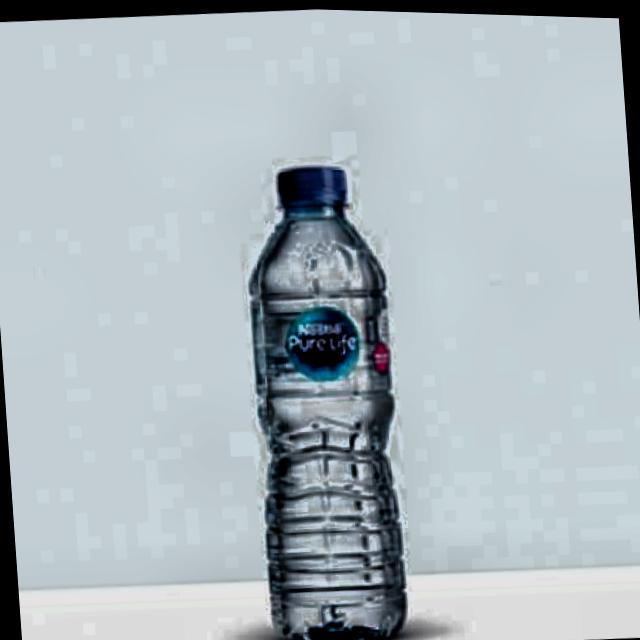Bottles: (221, 144, 437, 640)
